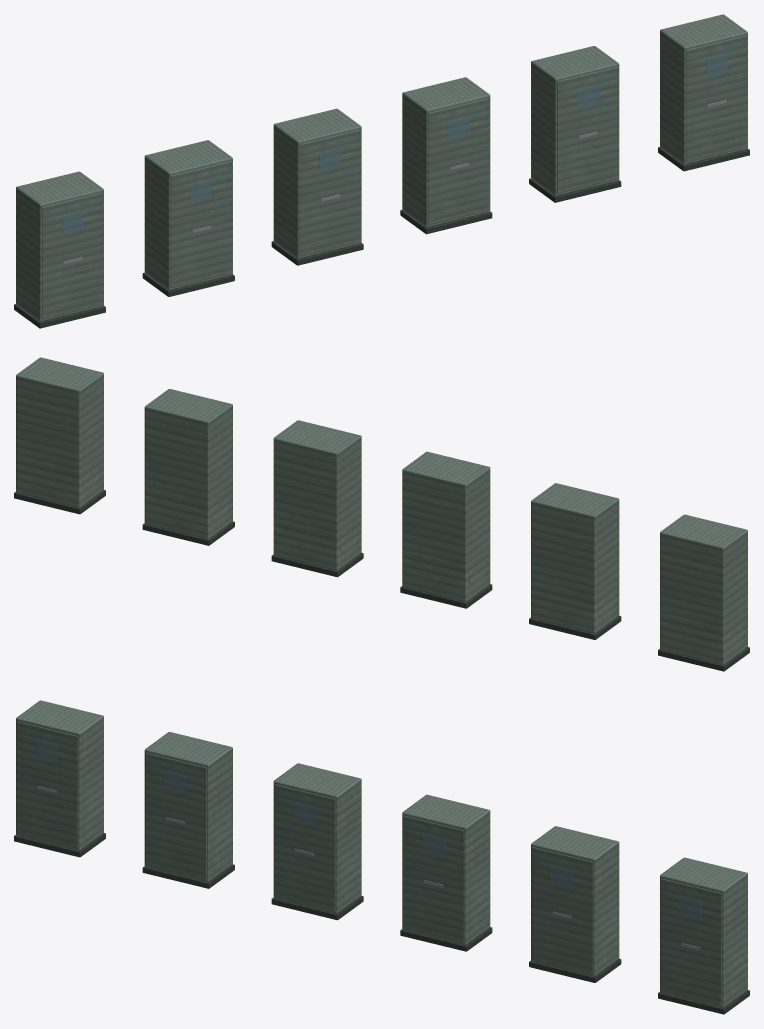
File: di-cabinets.glb
3 renders of one model, top to bottom at view 1: azimuth 30°, elevation 25°; view 2: azimuth 150°, elevation 25°; view 3: azimuth 330°, elevation 25°, orthographic.
Parts seen in each view (by area): view 1: C5_Door, C1_Door, C2_Door, C3_Door, C4_Door, C6_Door, C3_Body, C4_Body, C2_Body, C5_Body, C6_Body, C1_Body (+6 smaller); view 2: C3_Body, C4_Body, C2_Body, C5_Body, C6_Body, C1_Body, C4_Base, C2_Base, C5_Base, C3_Base, C6_Base, C1_Base; view 3: C2_Door, C6_Door, C5_Door, C4_Door, C3_Door, C1_Door, C3_Body, C4_Body, C2_Body, C5_Body, C1_Body, C6_Body (+6 smaller).
Boxes of the visible parts, x1,y1,x2,y2 form: C5_Door: [557, 66, 618, 193]; C1_Door: [42, 192, 103, 319]; C2_Door: [170, 161, 231, 287]; C3_Door: [299, 129, 360, 256]; C4_Door: [428, 98, 489, 224]; C6_Door: [686, 35, 746, 162]; C3_Body: [273, 108, 361, 258]; C4_Body: [402, 77, 490, 227]; C2_Body: [144, 140, 232, 290]; C5_Body: [531, 46, 619, 195]; C6_Body: [660, 14, 747, 164]; C1_Body: [16, 171, 103, 321]; C3_Body: [402, 451, 490, 601]; C4_Body: [273, 420, 361, 570]; C2_Body: [531, 483, 619, 633]; C5_Body: [144, 389, 232, 538]; C6_Body: [16, 357, 103, 507]; C1_Body: [660, 514, 747, 664]; C4_Base: [271, 552, 363, 577]; C2_Base: [529, 615, 621, 639]; C5_Base: [142, 521, 234, 545]; C3_Base: [400, 584, 492, 608]; C6_Base: [14, 490, 105, 514]; C1_Base: [658, 647, 749, 671]; C2_Door: [145, 752, 206, 879]; C6_Door: [660, 878, 721, 1005]; C5_Door: [532, 847, 593, 973]; C4_Door: [403, 815, 464, 942]; C3_Door: [274, 784, 335, 910]; C1_Door: [17, 721, 77, 848]; C3_Body: [273, 763, 361, 913]; C4_Body: [402, 794, 490, 944]; C2_Body: [144, 732, 232, 881]; C5_Body: [531, 826, 619, 976]; C1_Body: [16, 700, 103, 850]; C6_Body: [660, 857, 747, 1007].
Size of the model in its own units: 13.24 by 2.2 by 0.845.
Materials: 5 (4 with a texture image).
